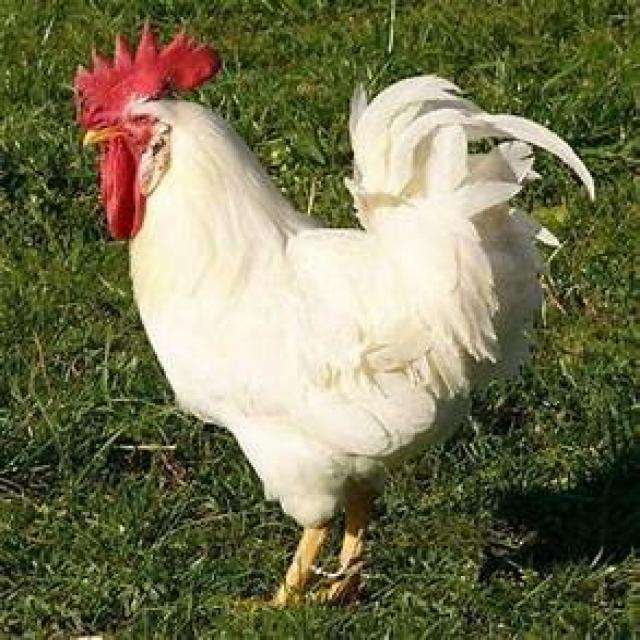hen: (78, 28, 594, 605)
